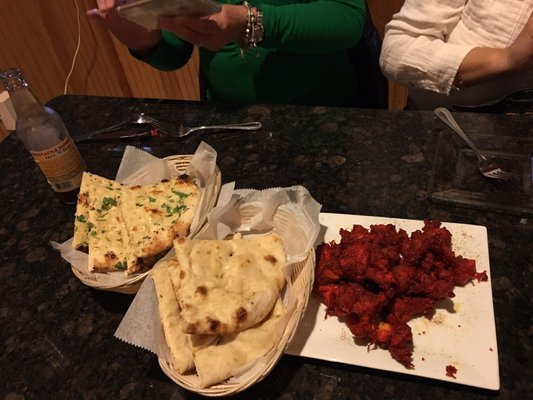burger: (0, 66, 87, 205)
curry: (1, 95, 530, 399)
sandwich: (71, 171, 202, 278)
